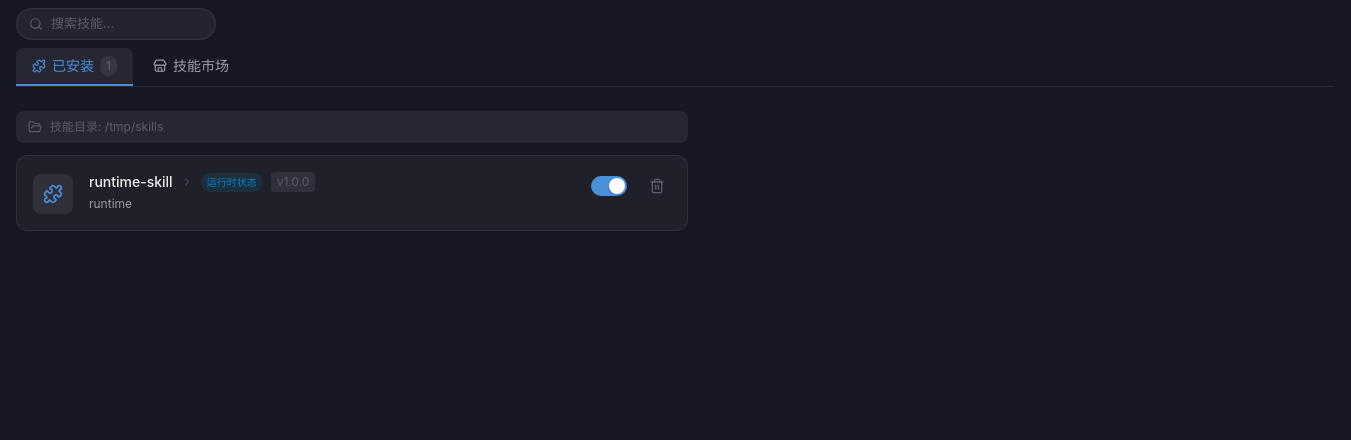
Test: SkillsView › restarts the engine after a runtime toggle that requires restart
Click the button "runtime-skill".
click(131, 182)  # box [89,172,173,192]
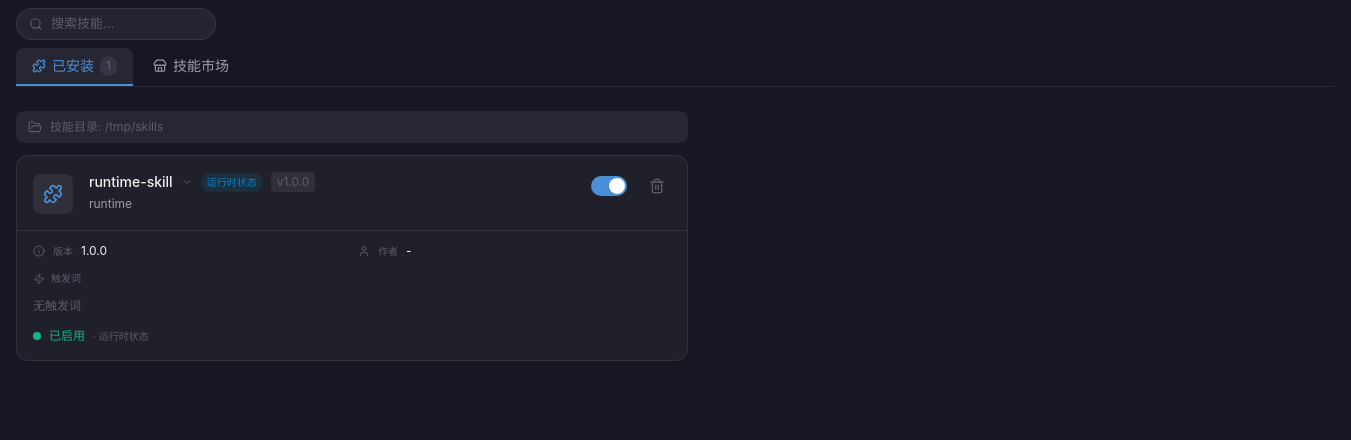
Click the button named "禁用技能".
click(609, 186)  # box [591,176,627,196]
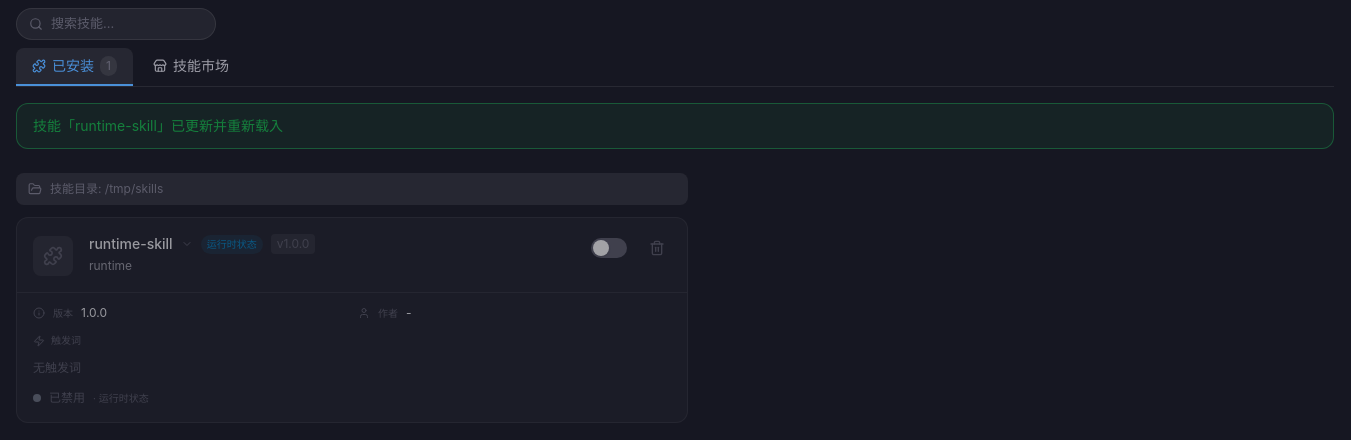
Check: the text "已禁用" is shown, box [49,390,85,406]
